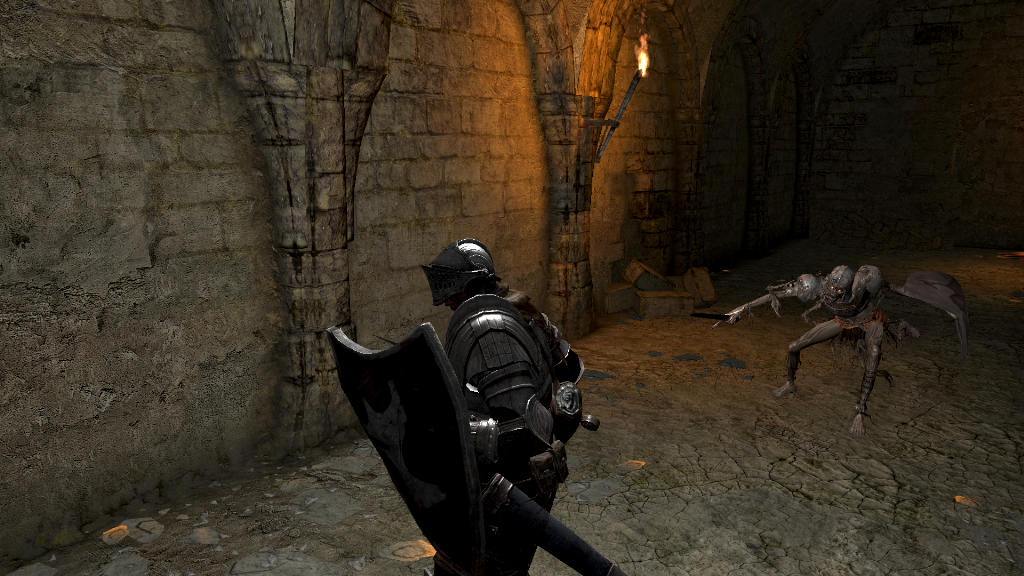player: (325, 239, 603, 576)
undeadSoldier: (725, 263, 922, 439)
